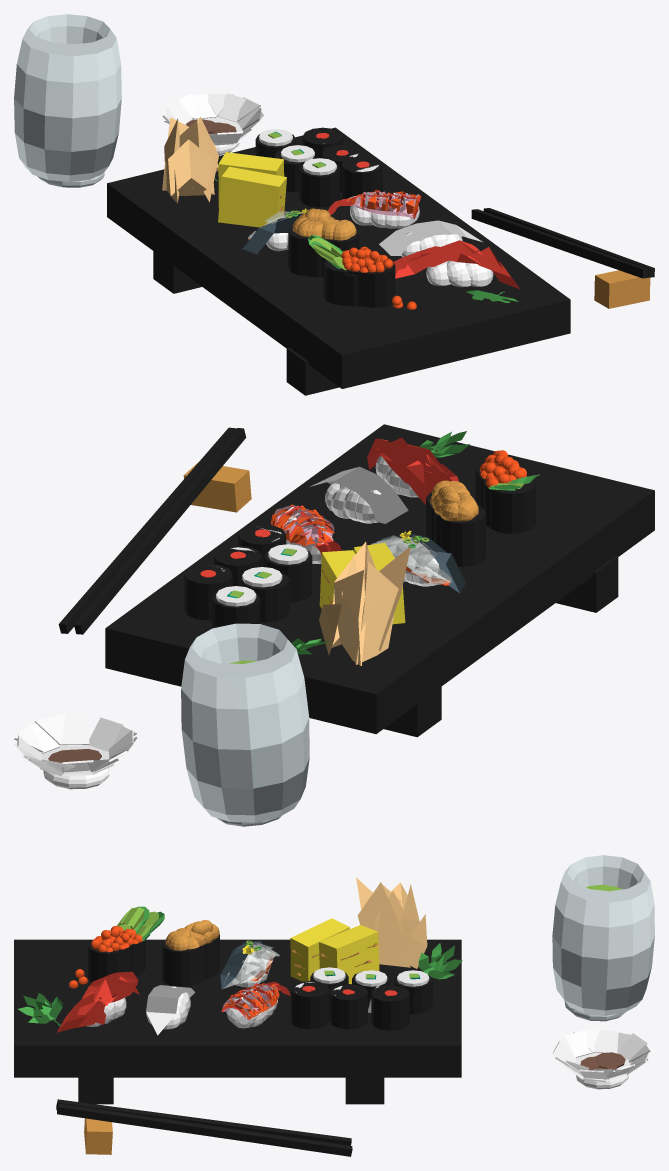
The model's file is sushi kit.fbx.
3 views of the same model, one above another, from view 1: azimuth 30°, elevation 25°; view 2: azimuth 150°, elevation 25°; view 3: azimuth 270°, elevation 25° (orthographic). The views are drawn at different scales.
Visible parts, largest first — view 1: Node.009; view 2: Node.009; view 3: Node.009.
Boxes of the visible parts, bbox=[...] form: Node.009: bbox=[14, 14, 654, 395]; Node.009: bbox=[14, 424, 654, 826]; Node.009: bbox=[14, 855, 654, 1156].
Size of the model in its own units: 122 by 52.59 by 199.
